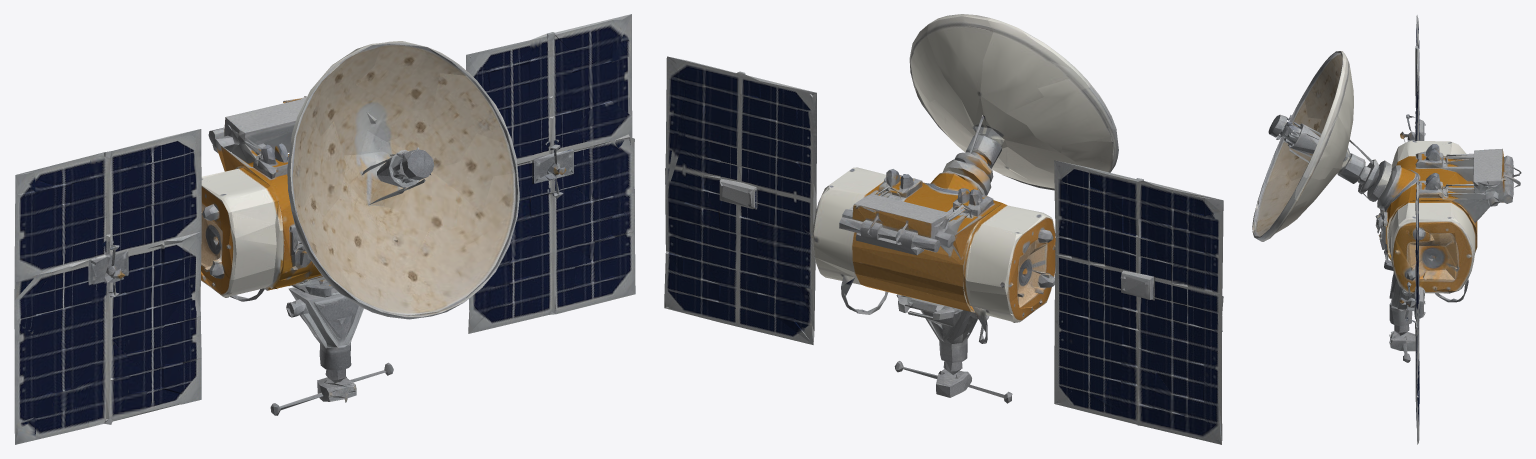
File: web.glb
3 renders of one model, left to right at view 1: azimuth 30°, elevation 25°; view 2: azimuth 150°, elevation 25°; view 3: azimuth 270°, elevation 25°, orthographic. The views are drawn at different scales.
Visible parts, largest first — view 1: output_unwrapped; view 2: output_unwrapped; view 3: output_unwrapped.
Part boxes in pixels (x1,y1,x2,y2): output_unwrapped: [14, 14, 635, 444]; output_unwrapped: [664, 14, 1223, 444]; output_unwrapped: [1252, 15, 1521, 444].
Size of the model in its own units: 1.9 by 1.12 by 0.9502.
1 material, 1 textured.
